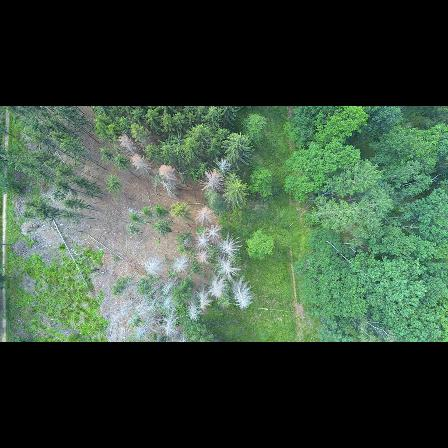Dead: (112, 292, 142, 326), (134, 305, 162, 340), (135, 283, 168, 311), (230, 281, 253, 310), (126, 151, 151, 174), (218, 234, 242, 257), (214, 259, 239, 280), (141, 259, 164, 280), (200, 168, 220, 192), (112, 137, 137, 155), (156, 162, 176, 184), (164, 306, 179, 334), (172, 251, 192, 271), (191, 248, 212, 267), (214, 157, 231, 178), (214, 274, 228, 299), (164, 276, 179, 298), (186, 294, 197, 322), (200, 283, 211, 309), (194, 231, 211, 246), (206, 224, 221, 240), (161, 294, 174, 310)
